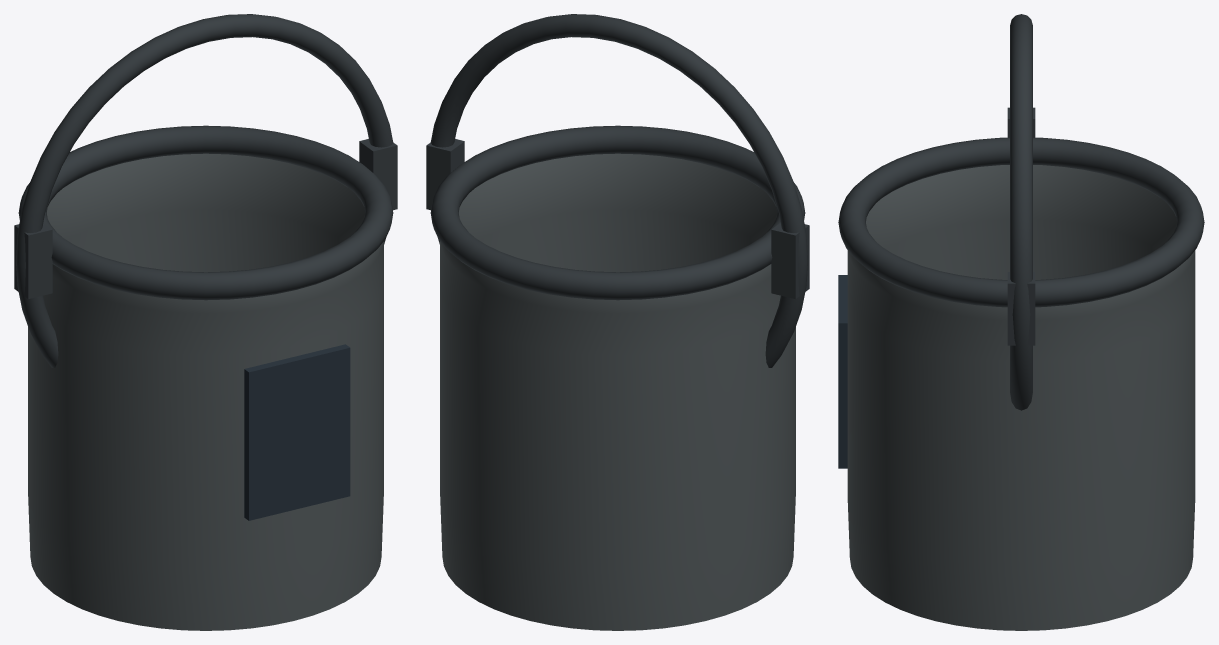
File: 15_turpentine_can.fbx
3 renders of one model, left to right at view 1: azimuth 30°, elevation 25°; view 2: azimuth 150°, elevation 25°; view 3: azimuth 270°, elevation 25°, orthographic. The views are drawn at different scales.
Parts seen in each view (by area): view 1: TurpCan, CanRim, Label, Bail, Lug_-1, Lug_1; view 2: TurpCan, CanRim, Bail, Lug_-1, Lug_1; view 3: TurpCan, CanRim, Bail, Label, Lug_1.
Part boxes in pixels (x1,y1,x2,y2): TurpCan: (28,153,383,630); CanRim: (18,125,393,300); Label: (244,344,350,520); Bail: (16,14,393,367); Lug_-1: (14,223,52,298); Lug_1: (359,139,397,210); TurpCan: (440,153,795,630); CanRim: (430,125,805,300); Bail: (430,14,807,367); Lug_-1: (771,223,809,298); Lug_1: (426,139,464,210); TurpCan: (847,165,1195,630); CanRim: (838,137,1204,307); Bail: (1010,14,1032,410); Label: (838,275,847,468); Lug_1: (1007,272,1035,345).
Size of the model in its own units: 0.186 by 0.253 by 0.16.
Materials: 3 (3 with a texture image).
